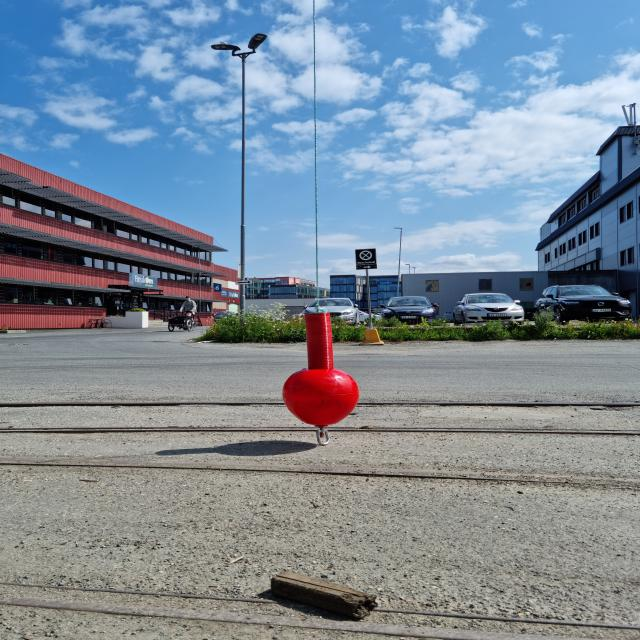red: (283, 314, 360, 426)
